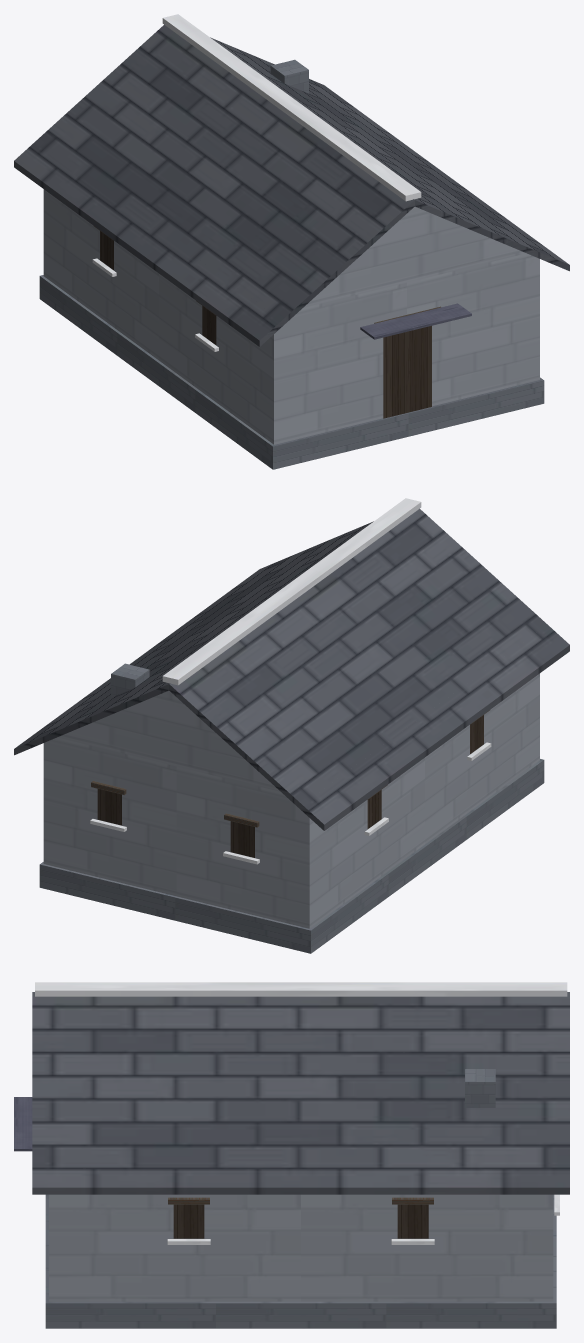
The model's file is ae_snow_stone_large_hall_lod1.glb.
3 views of the same model, one above another, from view 1: azimuth 30°, elevation 25°; view 2: azimuth 150°, elevation 25°; view 3: azimuth 270°, elevation 25° (orthographic). The views are drawn at different scales.
Parts seen in each view (by area): view 1: ae_snow_stone_large_hall_lod1; view 2: ae_snow_stone_large_hall_lod1; view 3: ae_snow_stone_large_hall_lod1.
Boxes of the visible parts, bbox=[...] form: ae_snow_stone_large_hall_lod1: bbox=[14, 14, 569, 469]; ae_snow_stone_large_hall_lod1: bbox=[14, 498, 569, 953]; ae_snow_stone_large_hall_lod1: bbox=[14, 982, 569, 1328].
Size of the model in its own units: 7 by 5.31 by 9.93.
1 material, 1 textured.
